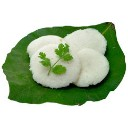idly: (31, 45, 80, 86), (77, 47, 108, 87), (66, 27, 106, 55)
